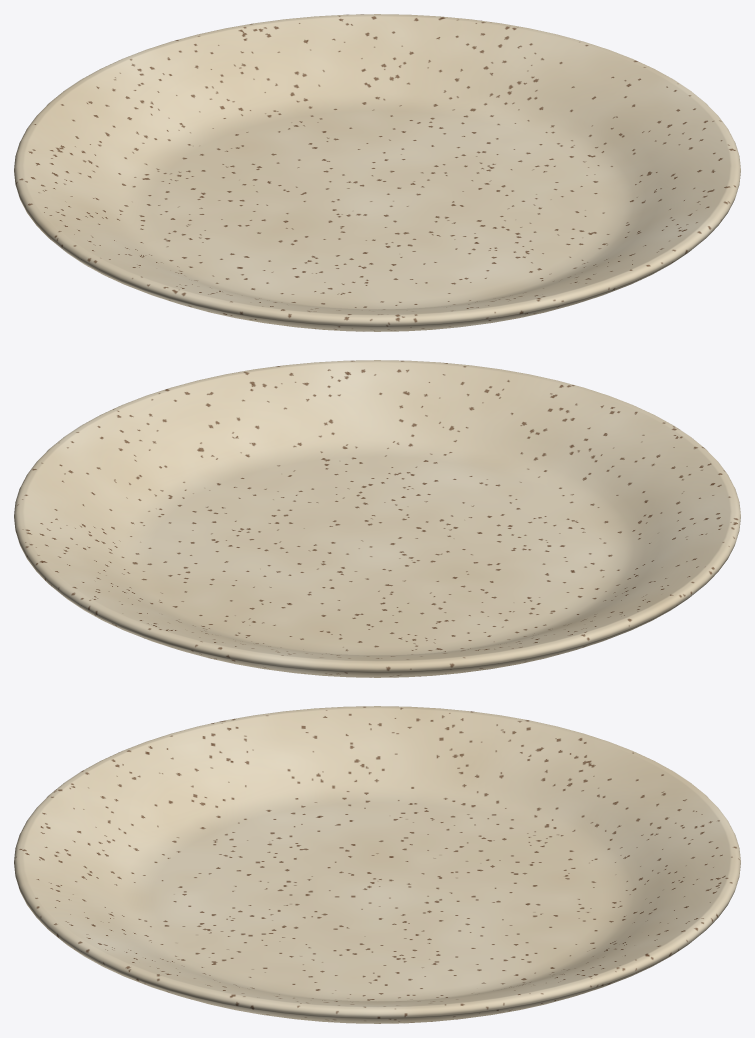
The picture shows the model from 3 angles, top to bottom: view 1: azimuth 30°, elevation 25°; view 2: azimuth 150°, elevation 25°; view 3: azimuth 270°, elevation 25°; orthographic projection.
Parts seen in each view (by area): view 1: Dinner plate, ceramic; view 2: Dinner plate, ceramic; view 3: Dinner plate, ceramic.
Part boxes in pixels (bbox=[...]): Dinner plate, ceramic: bbox=[14, 14, 740, 331]; Dinner plate, ceramic: bbox=[14, 360, 740, 677]; Dinner plate, ceramic: bbox=[14, 706, 740, 1023].
Size of the model in its own units: 0.271 by 0.0254 by 0.271.
Materials: 2 (1 with a texture image).
